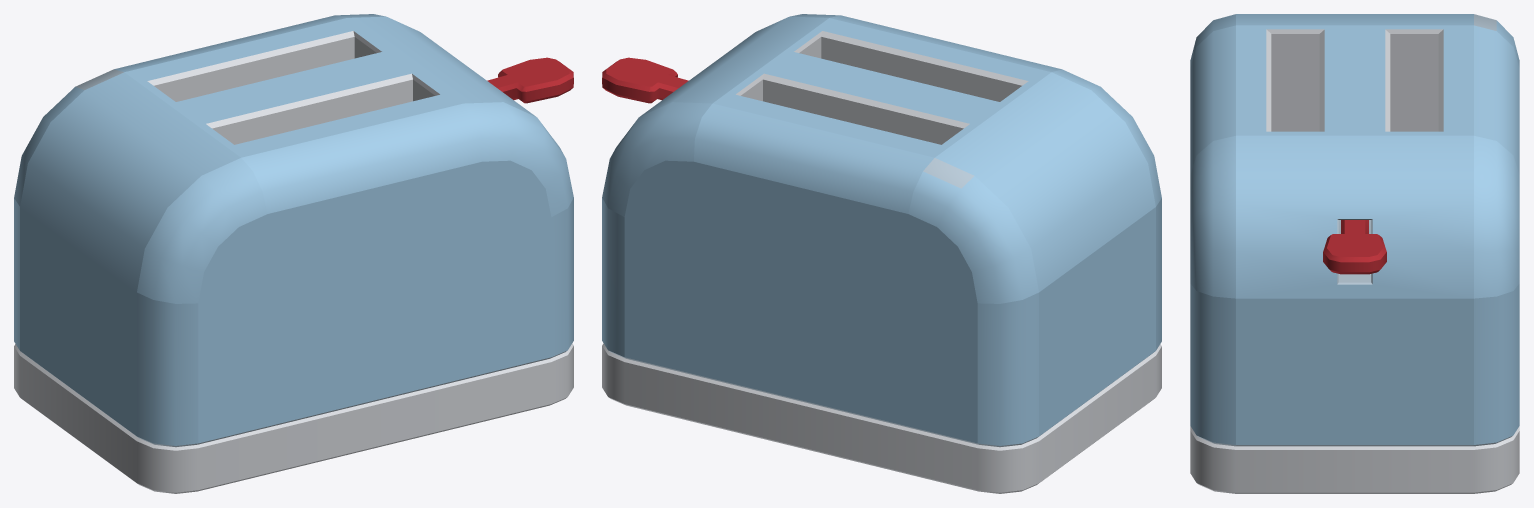
Rendered from Toster.glb.
The picture shows the model from 3 angles, left to right: view 1: azimuth 30°, elevation 25°; view 2: azimuth 150°, elevation 25°; view 3: azimuth 270°, elevation 25°; orthographic projection.
Parts seen in each view (by area): view 1: Toaster; view 2: Toaster; view 3: Toaster.
Part boxes in pixels (<box>): Toaster: <box>14,14,573,493</box>; Toaster: <box>602,14,1161,493</box>; Toaster: <box>1190,14,1519,493</box>.
Size of the model in its own units: 0.2803 by 0.1761 by 0.1608.
2 materials, 1 textured.
